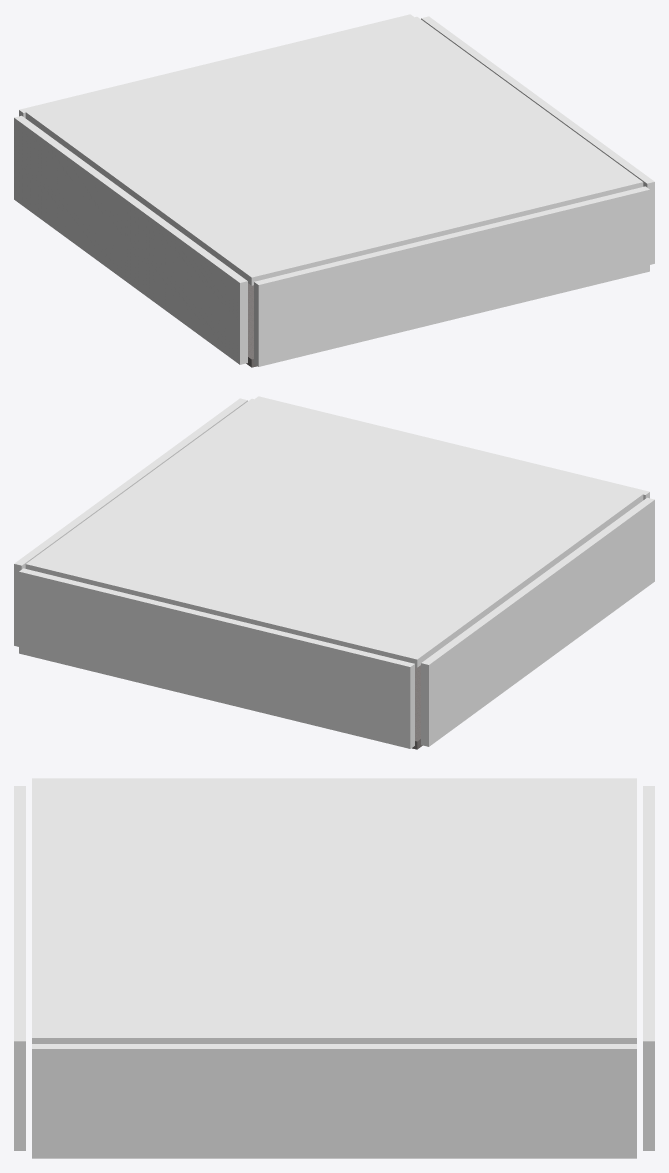
Rendered from room.gltf.
3 views of the same model, one above another, from view 1: azimuth 30°, elevation 25°; view 2: azimuth 150°, elevation 25°; view 3: azimuth 270°, elevation 25° (orthographic). The views are drawn at different scales.
Parts seen in each view (by area): view 1: ceiling, Cube.001, Cube.004, Cube.005, Cube.003; view 2: ceiling, Cube.003, Cube.004, Cube.005, Cube.001; view 3: ceiling, Cube.005, Cube.001, Cube.003, Cube.004.
Boxes of the visible parts, <box> form: ceiling: <box>25,16,643,285</box>; Cube.001: <box>254,186,649,366</box>; Cube.004: <box>14,115,247,364</box>; Cube.005: <box>421,16,654,264</box>; Cube.003: <box>19,14,413,117</box>; ceiling: <box>25,398,643,667</box>; Cube.003: <box>19,568,414,748</box>; Cube.004: <box>421,497,654,746</box>; Cube.005: <box>14,398,247,646</box>; Cube.001: <box>255,396,649,499</box>; ceiling: <box>32,782,636,1043</box>; Cube.005: <box>32,1044,636,1158</box>; Cube.001: <box>14,786,25,1150</box>; Cube.003: <box>643,786,654,1150</box>; Cube.004: <box>32,778,636,782</box>.
Bounding box in the file's own units: 106 × 22 × 106.
Materials: 3 (1 with a texture image).
